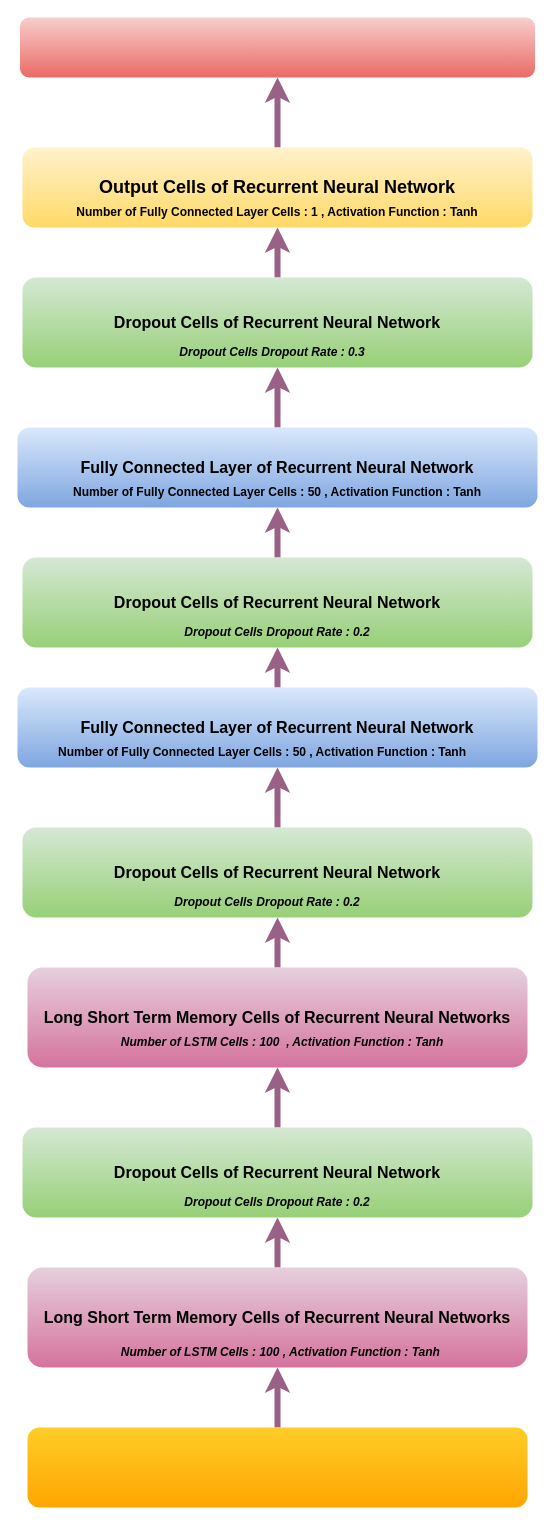
The diagram is 554 pixels wide and 1524 high, and some of its shapes have lost their labels. The centre of each missing label's shape, as x and y in pixels:
Dataset Last 32 Hours Traffic Management Vehicles System: (277,1467)
Prediction of Next 12 Hours of Smart Traffic Management Vehicles: (277,47)
